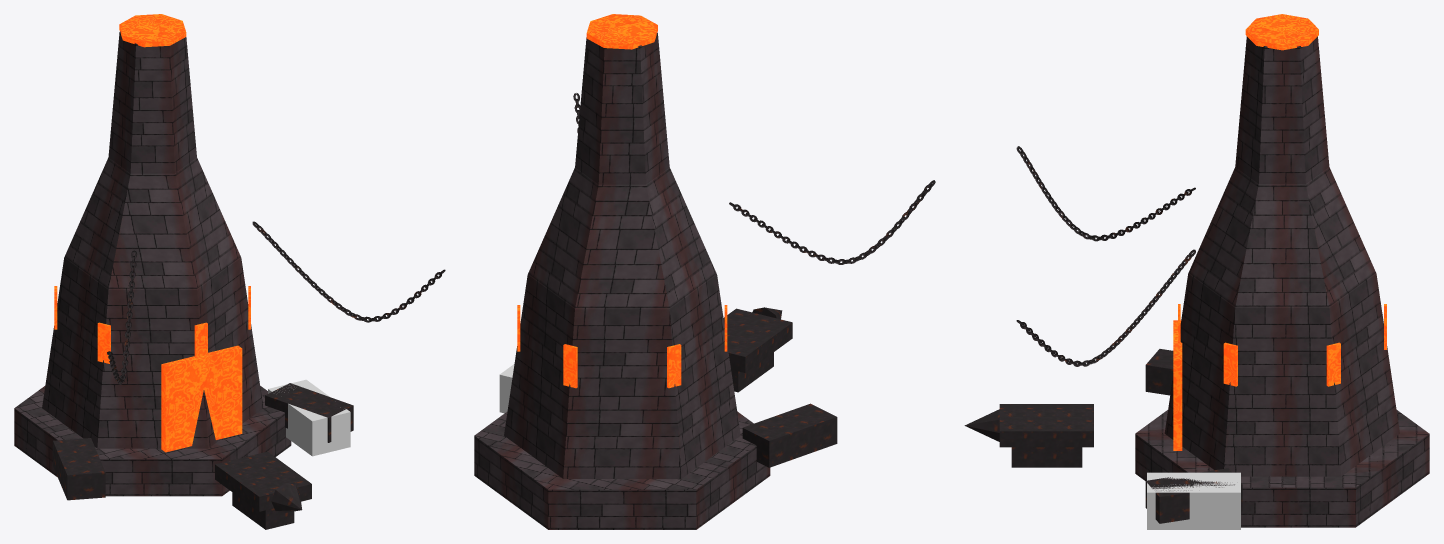
Rendered from soul_forge.glb.
The picture shows the model from 3 angles, left to right: view 1: azimuth 30°, elevation 25°; view 2: azimuth 150°, elevation 25°; view 3: azimuth 270°, elevation 25°; orthographic projection. The views are drawn at different scales.
Visible parts, largest first — view 1: Furnace, Fire, Anvil, Bellows-convcolonly.001, Chains; view 2: Furnace, Anvil, Fire, Chains; view 3: Furnace, Anvil, Fire, Bellows-convcolonly.001, Chains.
Boxes of the visible parts, x1,y1,x2,y2 form: Furnace: [14, 31, 291, 496]; Fire: [54, 14, 250, 452]; Anvil: [53, 383, 353, 529]; Bellows-convcolonly.001: [268, 379, 350, 456]; Chains: [107, 221, 445, 384]; Furnace: [474, 32, 770, 529]; Anvil: [723, 307, 837, 467]; Fire: [517, 14, 727, 388]; Chains: [573, 93, 935, 264]; Furnace: [1135, 36, 1429, 527]; Anvil: [964, 349, 1242, 523]; Fire: [1173, 14, 1386, 450]; Bellows-convcolonly.001: [1147, 472, 1240, 529]; Chains: [1016, 146, 1195, 366].
Size of what is drawn, in the model's own units: 14.09 by 16.65 by 15.8.
Materials: 3 (3 with a texture image).
